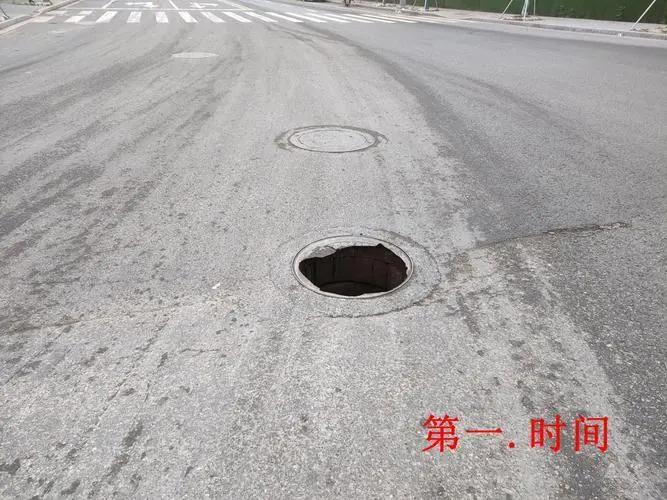wellcover: (283, 229, 451, 309), (272, 109, 387, 162)
